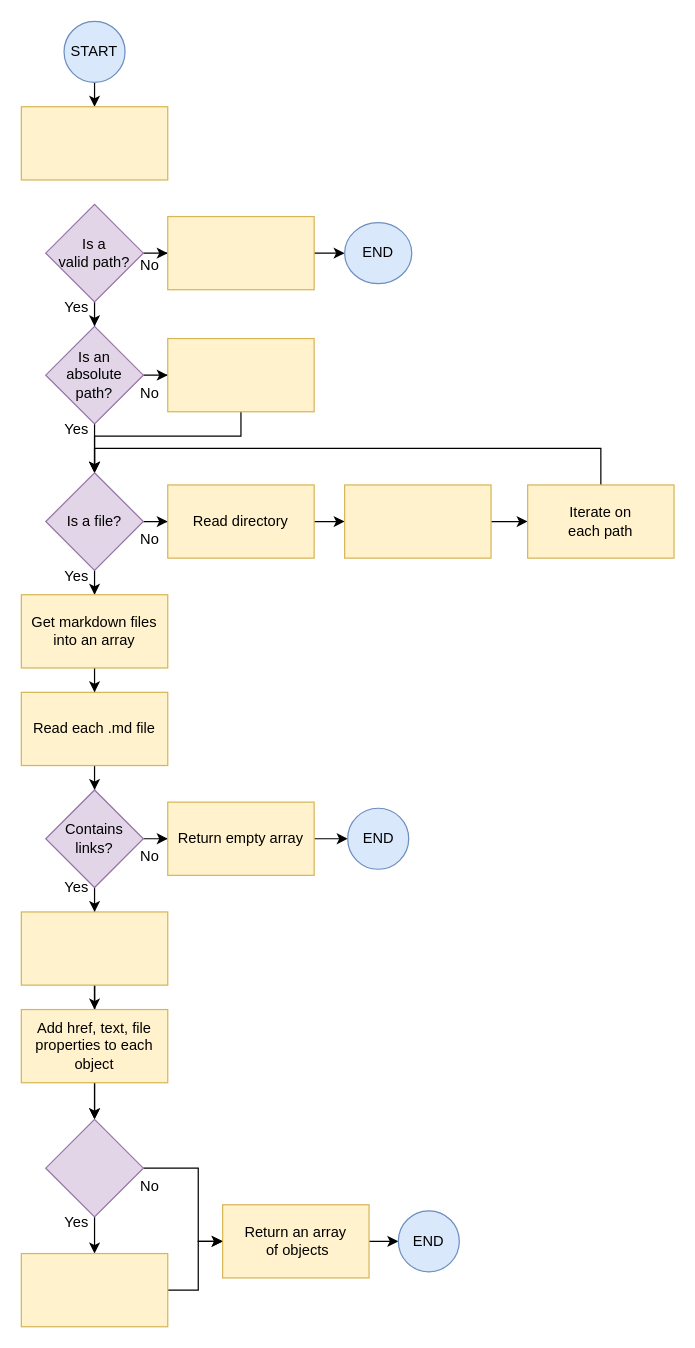
The diagram is 695 pixels wide and 1348 high, and some of its shapes have lost their labels. The box of each missing label's shape, as (x1, y1, x2, y2) in pixels:
Add status, status code properties: (20, 1252, 168, 1327)
Get an array with the found paths: (343, 484, 491, 558)
Get links: (20, 911, 168, 985)
Is validate true?: (45, 1118, 143, 1217)
Read user path: (20, 106, 168, 180)
Rejects promise: (167, 215, 314, 290)
Transform to an absolute path: (167, 337, 314, 412)
